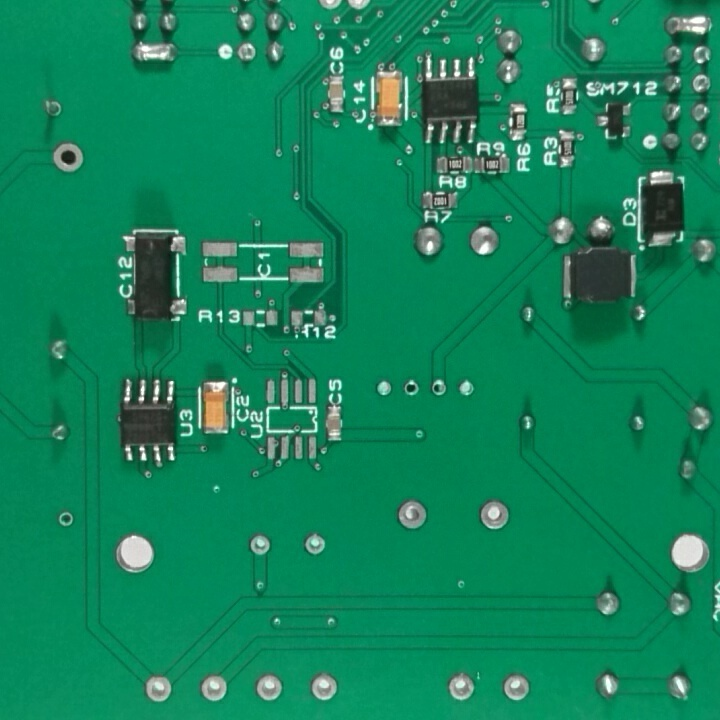F: (47, 137, 84, 175), (476, 496, 513, 534), (394, 494, 431, 532), (499, 669, 536, 704), (306, 669, 341, 705), (198, 669, 228, 707), (446, 669, 479, 703), (142, 671, 174, 706), (253, 671, 285, 705), (245, 531, 274, 560), (299, 529, 329, 556), (42, 95, 65, 123), (689, 72, 713, 97), (233, 43, 259, 66), (372, 376, 396, 400), (401, 376, 423, 399), (430, 375, 450, 400), (457, 378, 479, 400), (56, 507, 76, 531)
P: (660, 12, 714, 39), (128, 40, 181, 67)
